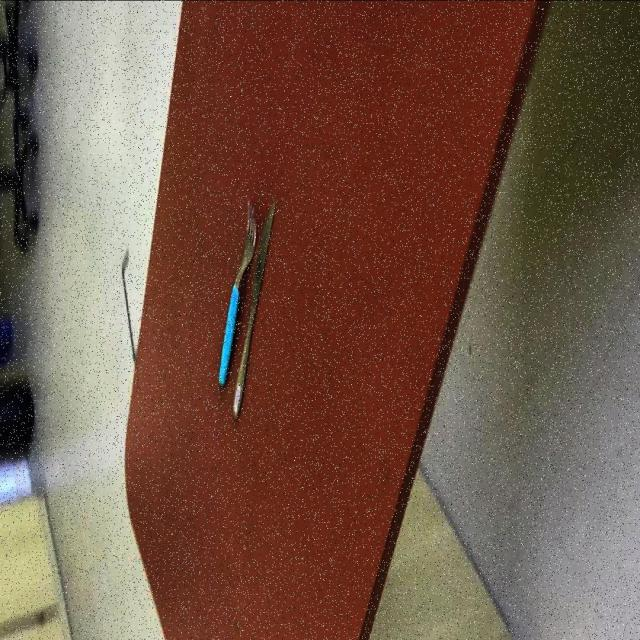Fork: (216, 199, 257, 388)
Knife: (231, 199, 277, 421)
